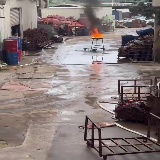fire: (89, 28, 102, 38)
